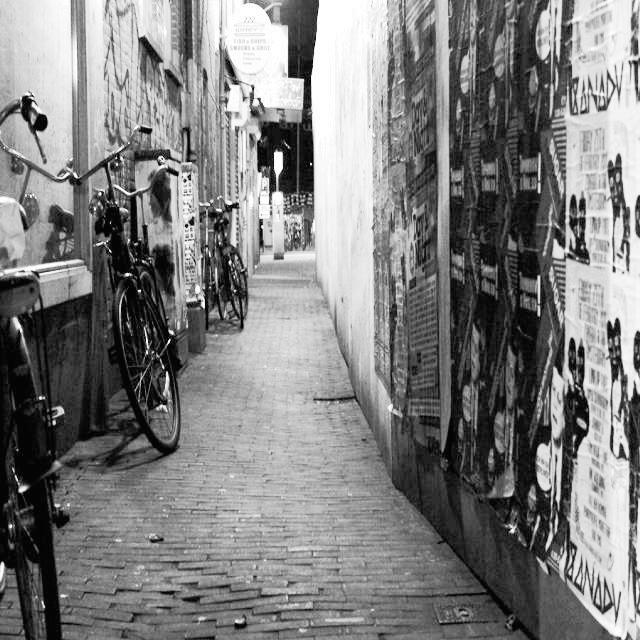Bicycle: (4, 95, 76, 640), (92, 132, 189, 471), (197, 174, 260, 363)
